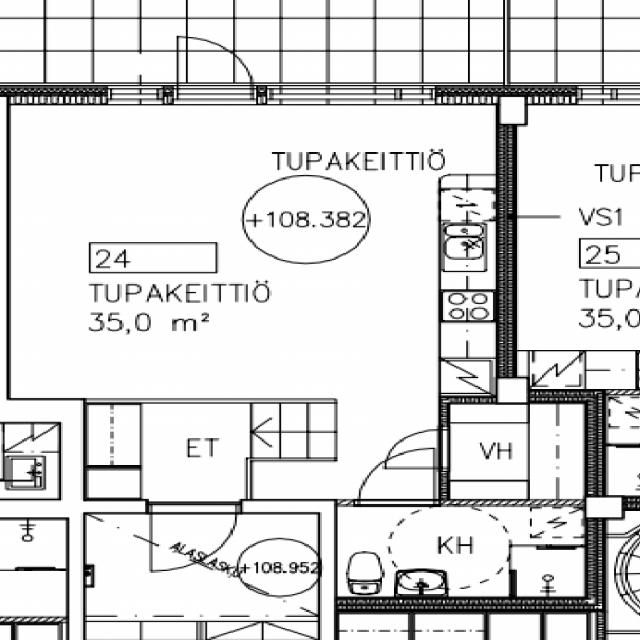door: (154, 497, 238, 571), (178, 32, 252, 104), (361, 447, 433, 505), (378, 428, 448, 469)
